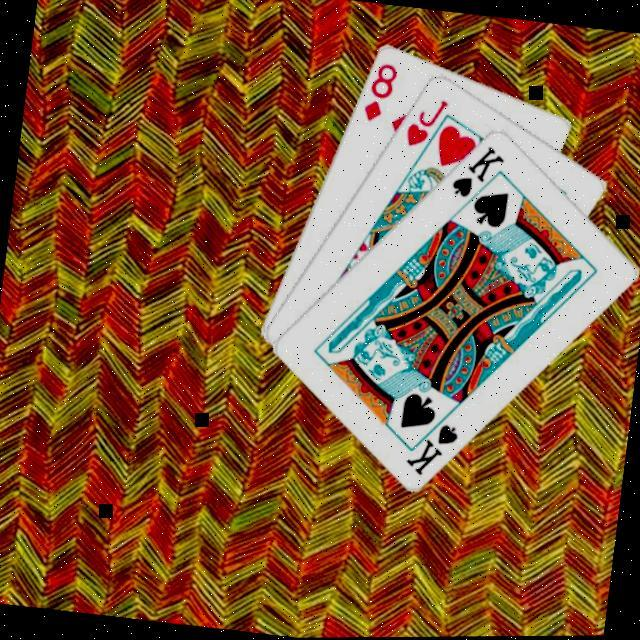8D: (359, 56, 404, 126)
JH: (404, 90, 454, 151)
KS: (403, 402, 466, 480), (448, 136, 511, 202)
